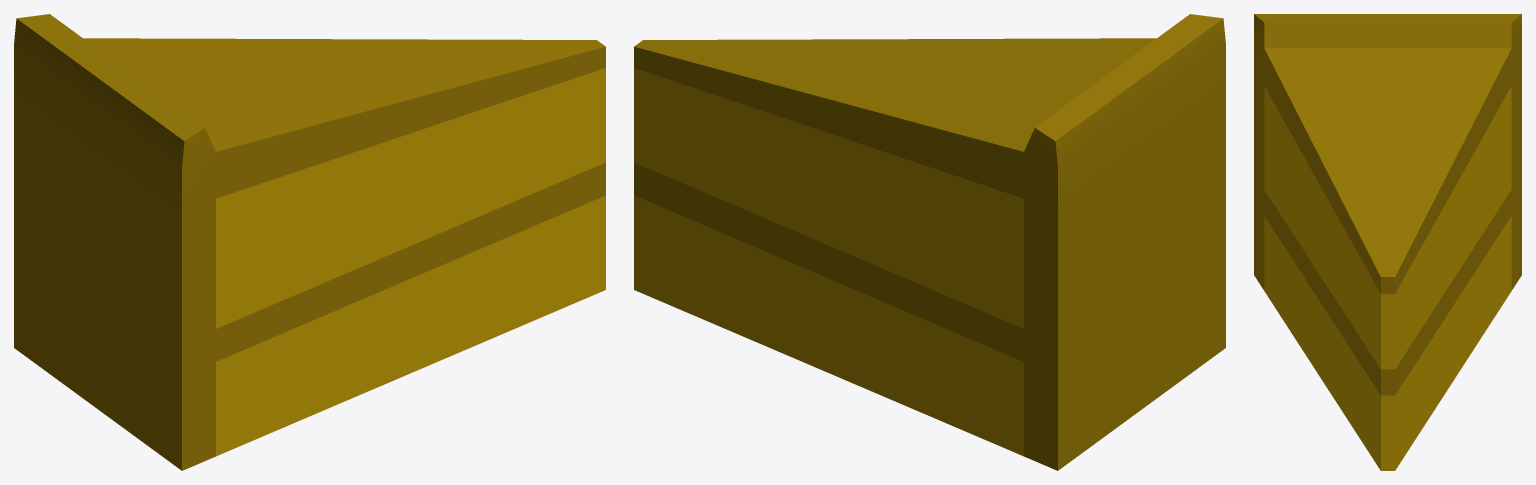
The model's file is SM_GateauChocolat.fbx.
The picture shows the model from 3 angles, left to right: view 1: azimuth 30°, elevation 25°; view 2: azimuth 150°, elevation 25°; view 3: azimuth 270°, elevation 25°; orthographic projection. The views are drawn at different scales.
Visible parts, largest first — view 1: SM_GateauChocolat; view 2: SM_GateauChocolat; view 3: SM_GateauChocolat.
Part boxes in pixels (bbox=[...]): SM_GateauChocolat: bbox=[14, 14, 605, 470]; SM_GateauChocolat: bbox=[634, 14, 1225, 470]; SM_GateauChocolat: bbox=[1254, 14, 1521, 470].
Bounding box in the file's own units: 22.7 × 14.29 × 13.13.
